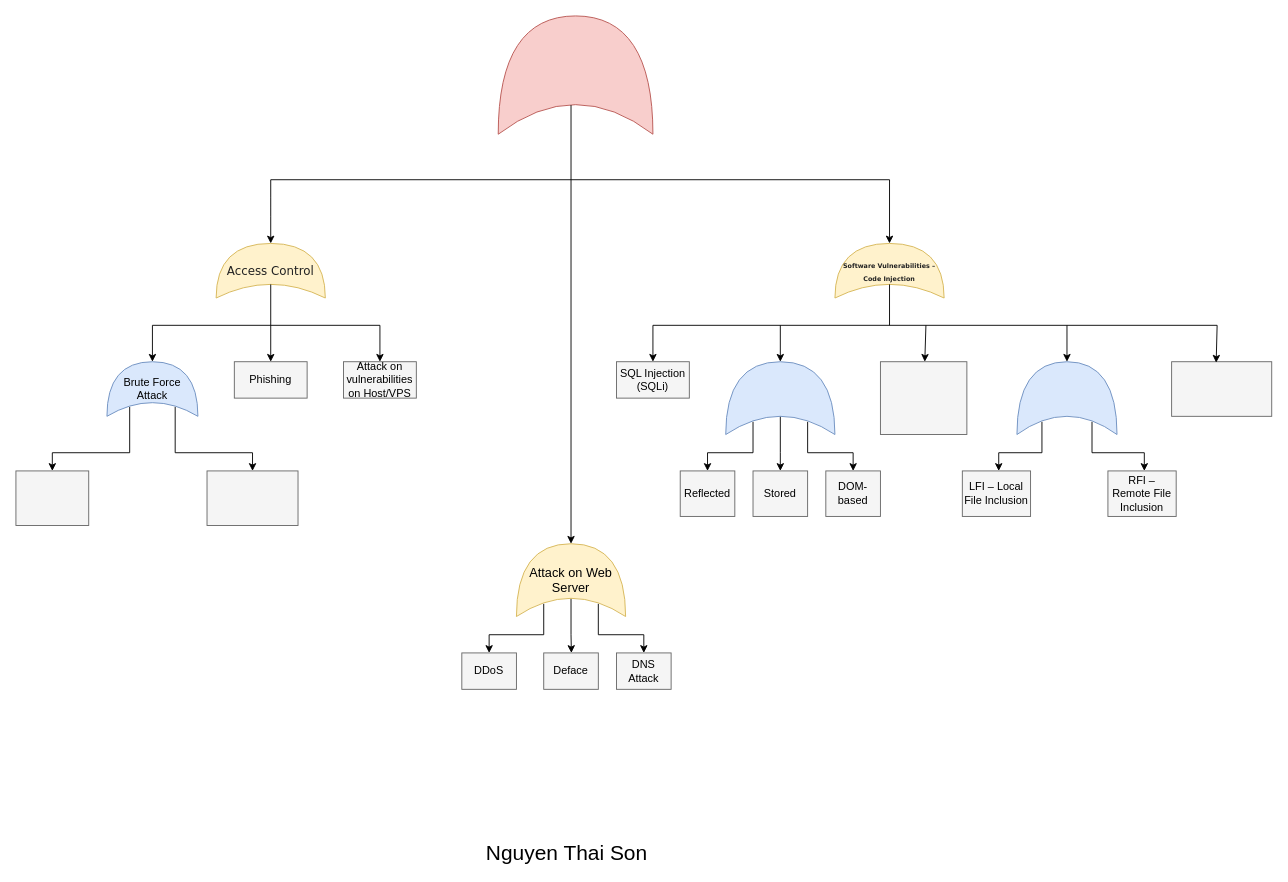
This 1288x882 diagram has some shape labels left out. Each missing label, with the centre of its shape:
Attack Website: point 575,74
Brute Force Attack via XML-RPC (WordPress): point 252,498
Cross-Site Request Forgery (CSRF/XSRF): point 923,398
Cross-Site Scripting (XSS(: point 780,398
Distributing malicious code: point 1221,388
Inclusion Vulnerabilities: point 1066,398
Normal Brute Force: point 52,498
